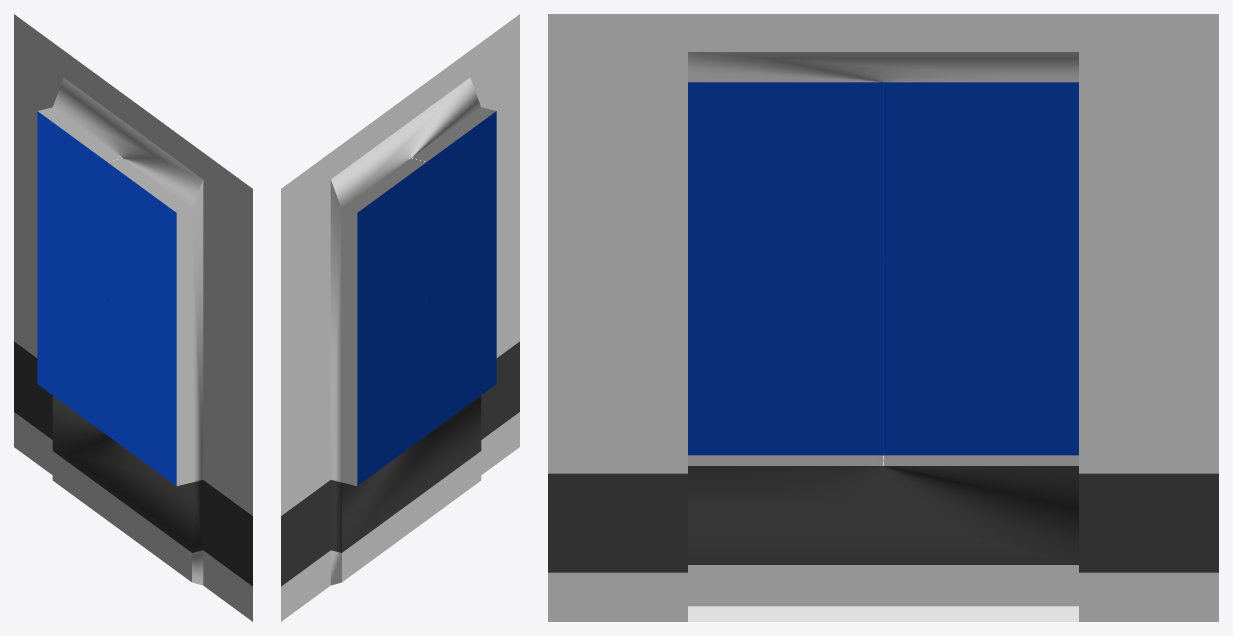
File: WallWindow2.fbx
3 views of the same model, side by side, from view 1: azimuth 30°, elevation 25°; view 2: azimuth 150°, elevation 25°; view 3: azimuth 270°, elevation 25° (orthographic). The views are drawn at different scales.
Parts seen in each view (by area): view 1: WallWindow; view 2: WallWindow; view 3: WallWindow.
Boxes of the visible parts, x1=… form: WallWindow: x1=14, y1=14, x2=252, y2=621; WallWindow: x1=281, y1=14, x2=519, y2=621; WallWindow: x1=548, y1=14, x2=1218, y2=621.
Bounding box in the file's own units: 19.11 × 300 × 300.
